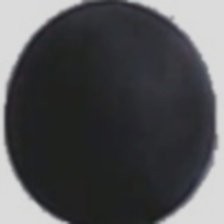grapes: (59, 44, 202, 220)
